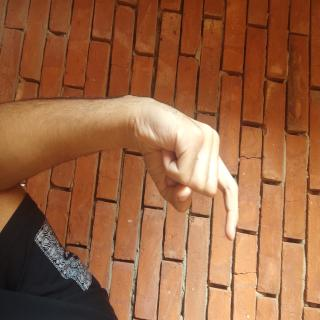RAA: (68, 102, 182, 268)
